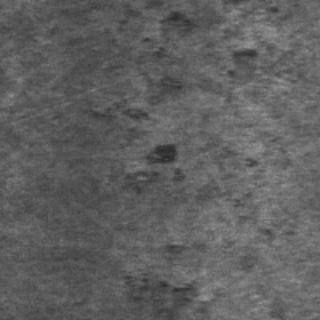rolled pit: (116, 234, 224, 316)
